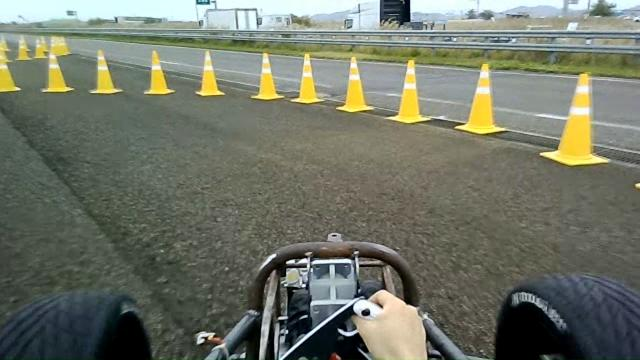blue cone: (379, 0, 411, 26)
yellow cone: (539, 72, 609, 166), (454, 63, 507, 134), (385, 58, 431, 124), (336, 56, 374, 112), (250, 51, 285, 101), (290, 53, 324, 104), (89, 48, 122, 94), (144, 50, 176, 95), (195, 50, 225, 96)
